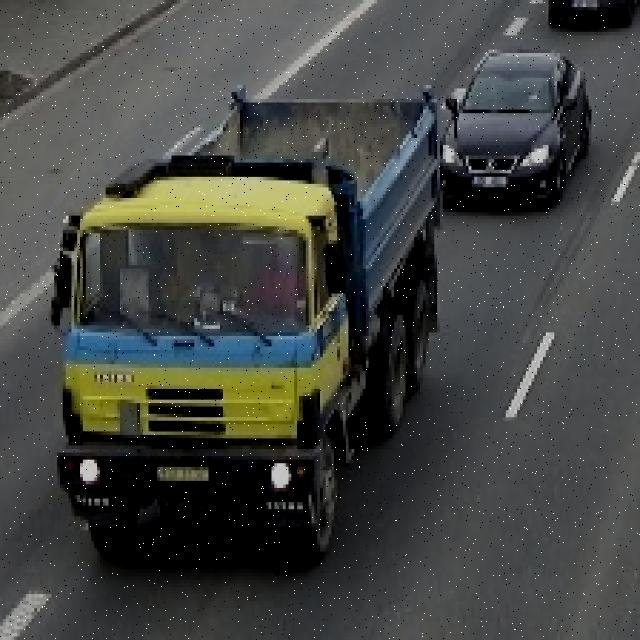truck: (51, 85, 446, 562)
